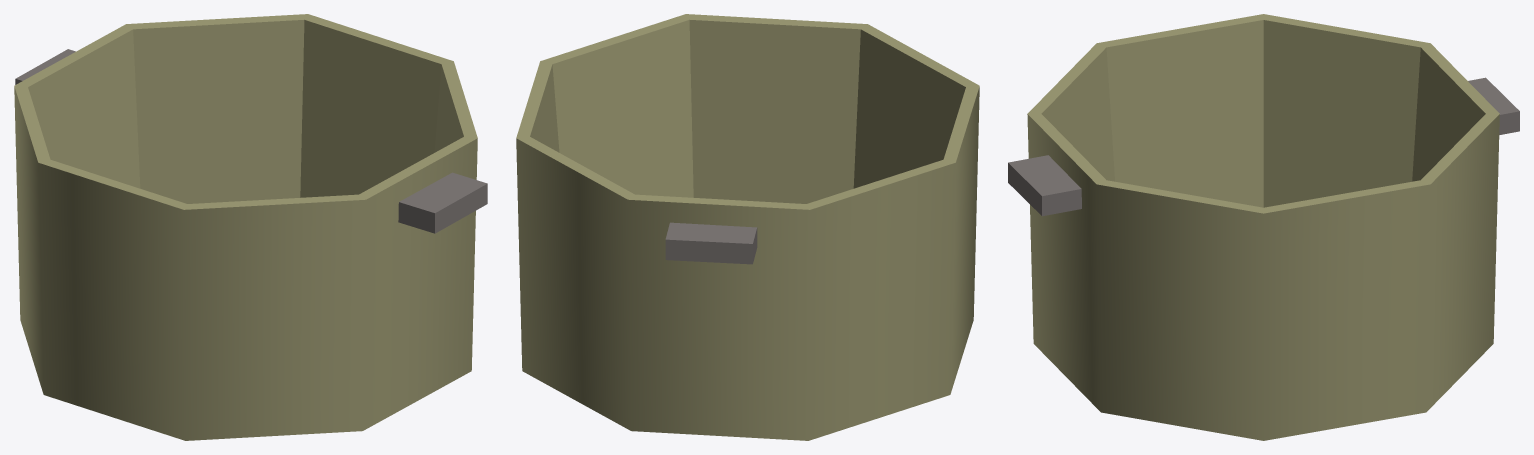
The model's file is SM_Pan_04.fbx.
3 renders of one model, left to right at view 1: azimuth 30°, elevation 25°; view 2: azimuth 150°, elevation 25°; view 3: azimuth 270°, elevation 25°, orthographic.
Parts seen in each view (by area): view 1: SM_Pan_04; view 2: SM_Pan_04; view 3: SM_Pan_04.
Part boxes in pixels (x1,y1,x2,y2): SM_Pan_04: [14, 14, 487, 440]; SM_Pan_04: [516, 14, 979, 440]; SM_Pan_04: [1008, 14, 1519, 440].
Size of the model in its own units: 46 by 24.71 by 49.86.
1 material, 1 textured.
